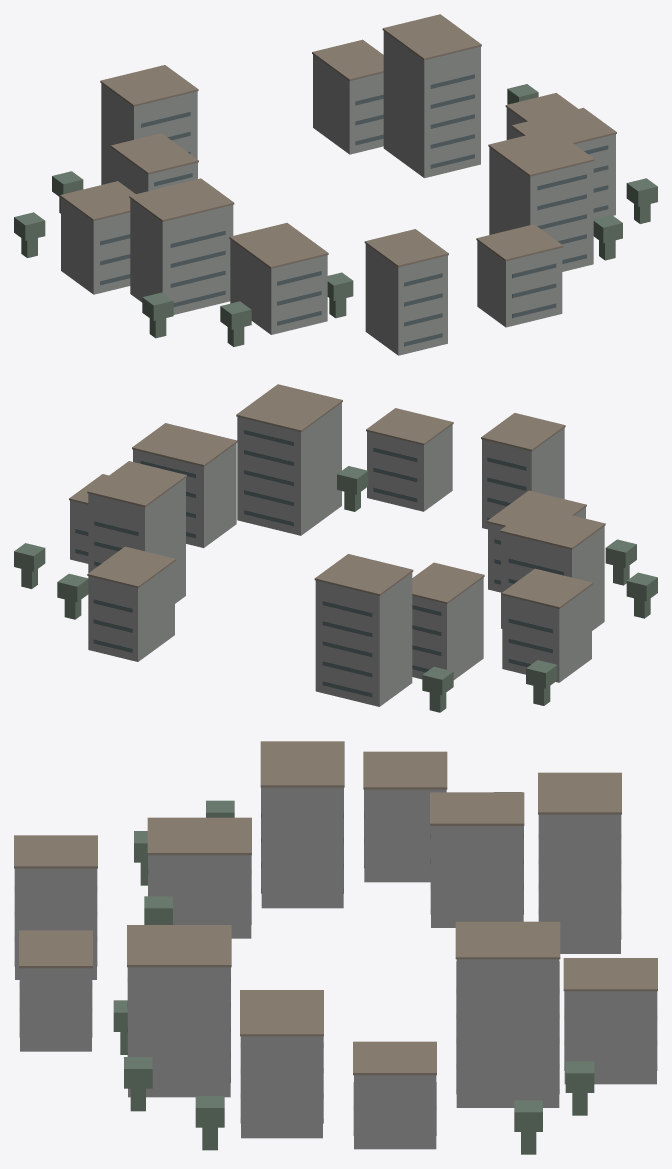
The model's file is city-environment.glb.
The picture shows the model from 3 angles, top to bottom: view 1: azimuth 30°, elevation 25°; view 2: azimuth 150°, elevation 25°; view 3: azimuth 270°, elevation 25°; orthographic projection. The views are drawn at different scales.
Visible parts, largest first — view 1: city-environment; view 2: city-environment; view 3: city-environment.
Boxes of the visible parts, x1=… form: city-environment: x1=14, y1=14, x2=657, y2=355; city-environment: x1=14, y1=384, x2=657, y2=712; city-environment: x1=14, y1=741, x2=657, y2=1154.
Size of the model in its own units: 73.8 by 16.24 by 62.68.
